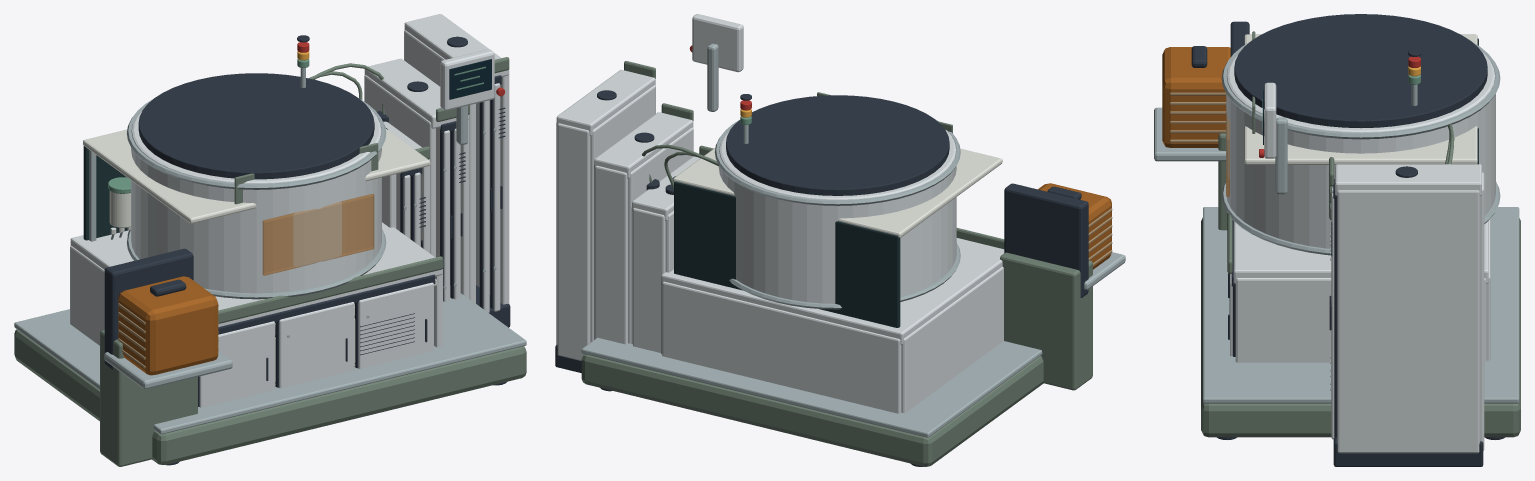
Rendered from equipment-coat.glb.
3 views of the same model, side by side, from view 1: azimuth 30°, elevation 25°; view 2: azimuth 150°, elevation 25°; view 3: azimuth 270°, elevation 25° (orthographic). The views are drawn at different scales.
Visible parts, largest first — view 1: Spin bowl cylindrical canopy, Spin bowl cylindrical canopy top cap, Segmented service plinth, Raised deck edge, Amber wafer transport pod, Independent load port base, Spin coat front inspection opening, Removable service door.001, Removable service door.002, Track top cover, Removable service door, Filtered ceiling (+30 smaller); view 2: Rear utility enclosure, Spin bowl cylindrical canopy top cap, Spin bowl cylindrical canopy, Segmented service plinth, Track rear housing, Raised deck edge, Independent load port base, Side service skin, Rear utility enclosure.003, Pod docking bulkhead, Filtered ceiling, Rear utility enclosure.002 (+13 smaller); view 3: Side service skin.007, Spin bowl cylindrical canopy top cap, Raised deck edge, Spin bowl cylindrical canopy, Side service skin.001, Segmented service plinth, Amber wafer transport pod, Track top cover, Filtered ceiling.003, Filtered ceiling, Spin bowl cylindrical canopy flange.001, Equipment plinth.003 (+10 smaller).
Boxes of the visible parts, x1,y1,x2,y2 form: Spin bowl cylindrical canopy: (131, 107, 381, 293); Spin bowl cylindrical canopy top cap: (138, 73, 374, 179); Segmented service plinth: (14, 329, 526, 464); Raised deck edge: (14, 285, 526, 434); Amber wafer transport pod: (118, 276, 218, 375); Independent load port base: (100, 329, 197, 466); Spin coat front inspection opening: (262, 194, 374, 275); Removable service door.001: (279, 302, 354, 388); Removable service door.002: (358, 282, 433, 368); Track top cover: (83, 128, 430, 223); Removable service door: (199, 321, 274, 407); Filtered ceiling: (70, 222, 442, 326); Rear utility enclosure: (662, 281, 901, 413); Spin bowl cylindrical canopy top cap: (726, 95, 949, 195); Spin bowl cylindrical canopy: (718, 128, 956, 303); Segmented service plinth: (581, 354, 1043, 466); Track rear housing: (674, 181, 900, 327); Raised deck edge: (581, 337, 1042, 437); Independent load port base: (1000, 252, 1092, 390); Side service skin: (901, 266, 1003, 413); Rear utility enclosure.003: (557, 123, 590, 360); Pod docking bulkhead: (1004, 183, 1088, 297); Filtered ceiling: (661, 238, 1004, 344); Rear utility enclosure.002: (595, 165, 627, 344); Side service skin.007: (1337, 190, 1479, 453); Spin bowl cylindrical canopy top cap: (1234, 14, 1487, 128); Raised deck edge: (1203, 207, 1519, 403); Spin bowl cylindrical canopy: (1226, 50, 1495, 248); Side service skin.001: (1235, 278, 1486, 362); Segmented service plinth: (1201, 217, 1520, 437); Amber wafer transport pod: (1162, 47, 1230, 147); Track top cover: (1244, 34, 1477, 164); Filtered ceiling.003: (1335, 164, 1481, 195); Filtered ceiling: (1233, 221, 1488, 283); Spin bowl cylindrical canopy flange.001: (1221, 41, 1500, 139); Equipment plinth.003: (1333, 437, 1483, 466).
Bounding box in the file's own units: 6.47 × 4.32 × 4.25.
